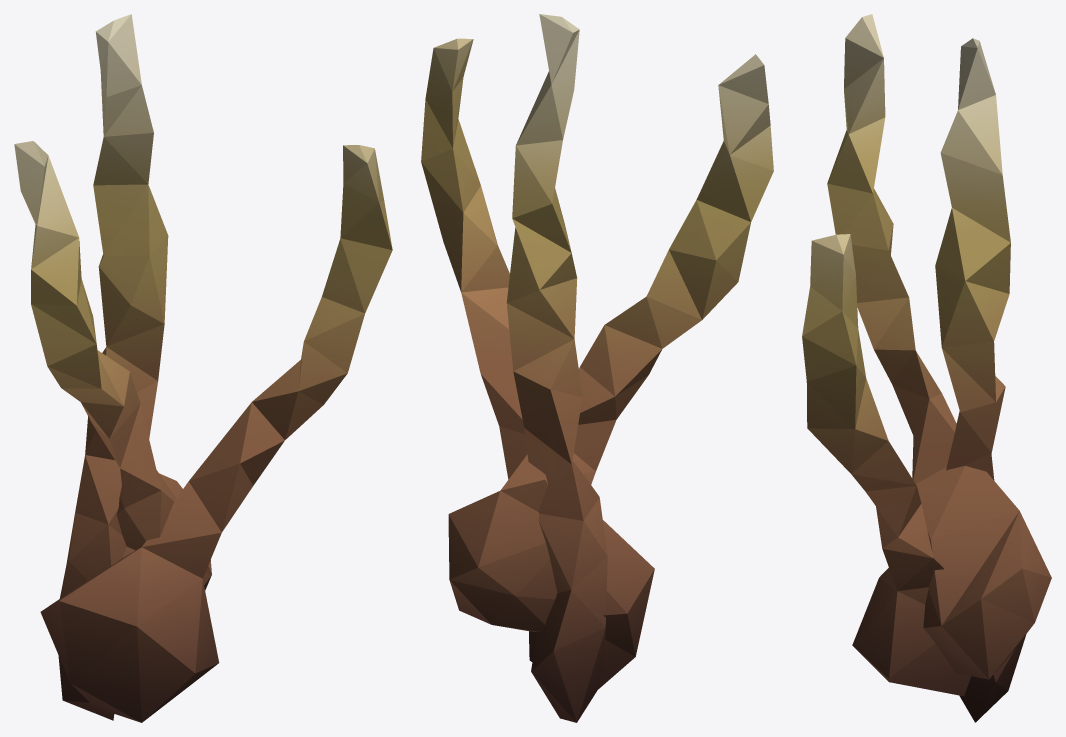
3 renders of one model, left to right at view 1: azimuth 30°, elevation 25°; view 2: azimuth 150°, elevation 25°; view 3: azimuth 270°, elevation 25°, orthographic. The views are drawn at different scales.
Visible parts, largest first — view 1: Base_04; view 2: Base_04; view 3: Base_04.
Part boxes in pixels (left/top/right/bottom): Base_04: left=14, top=14, right=392, bottom=722; Base_04: left=421, top=14, right=773, bottom=722; Base_04: left=802, top=14, right=1051, bottom=722.
Bounding box in the file's own units: 2.01 × 3.8 × 1.26.
